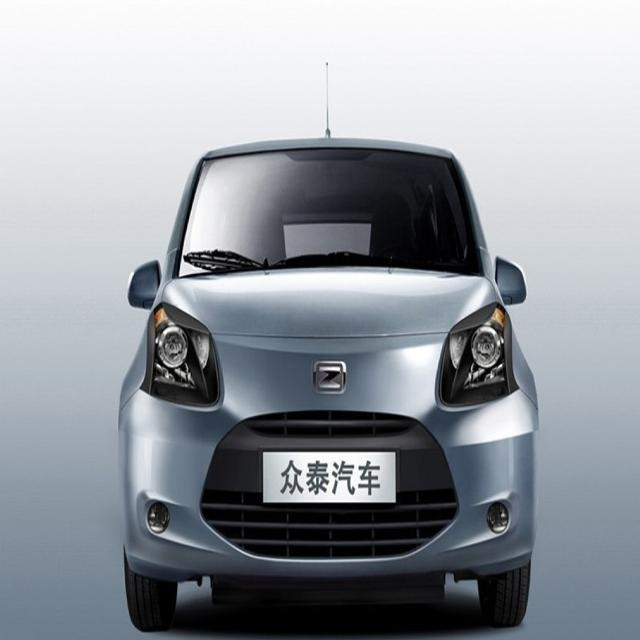front_bumper: (118, 328, 540, 580)
front_glass: (173, 145, 486, 280)
front_left_side_light: (438, 301, 518, 409)
front_left_side_mirror: (492, 251, 529, 310)
front_right_side_light: (137, 300, 222, 412)
front_right_side_mirror: (127, 258, 162, 312)
